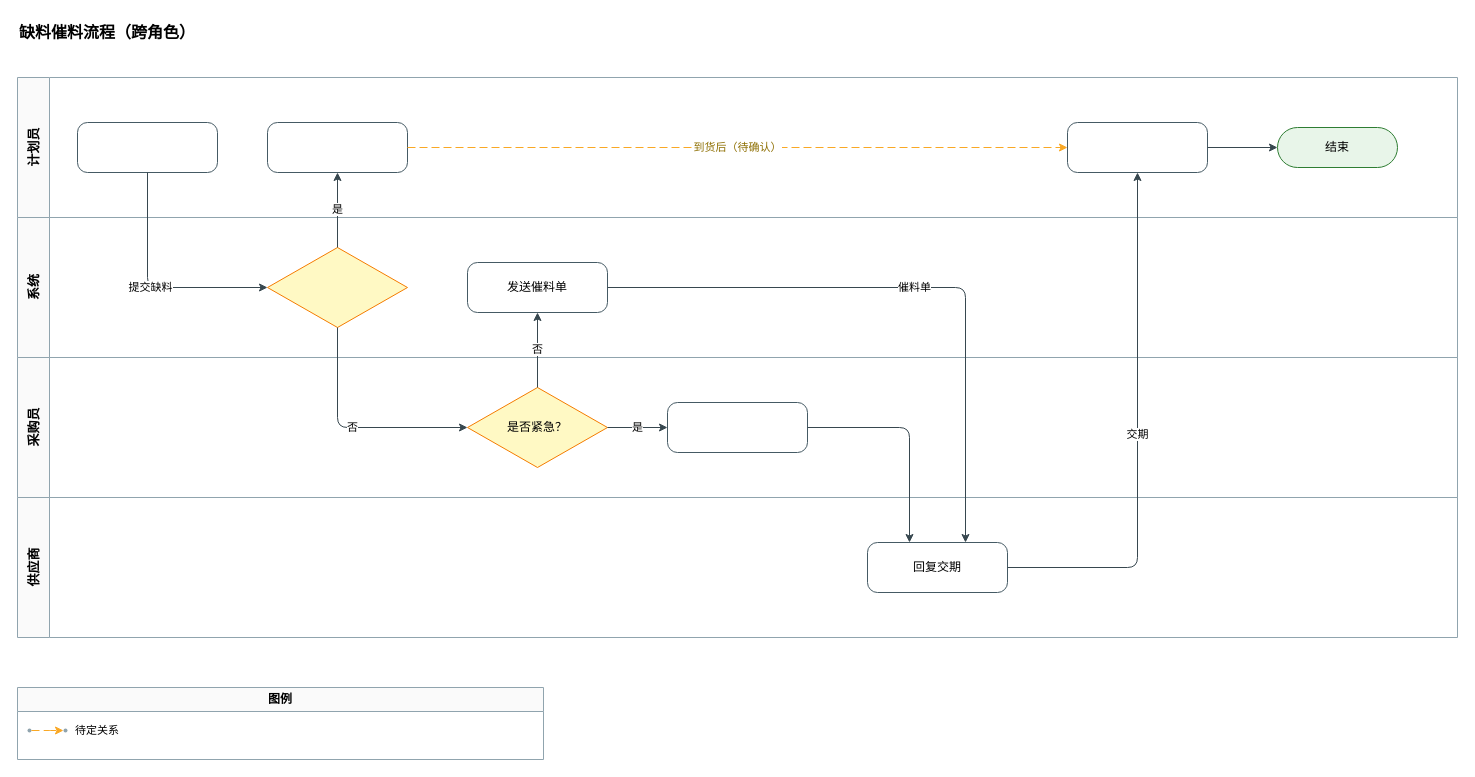
Some shapes in this 1475 by 777 pixel diagram are drawn without their labels. Each missing label, with the centre of its shape:
"发现缺料" goes at [147,147].
"是否有在途？" goes at [337,287].
"更新排产" goes at [1137,147].
"电话催料" goes at [737,427].
"跟踪到货" goes at [337,147].
